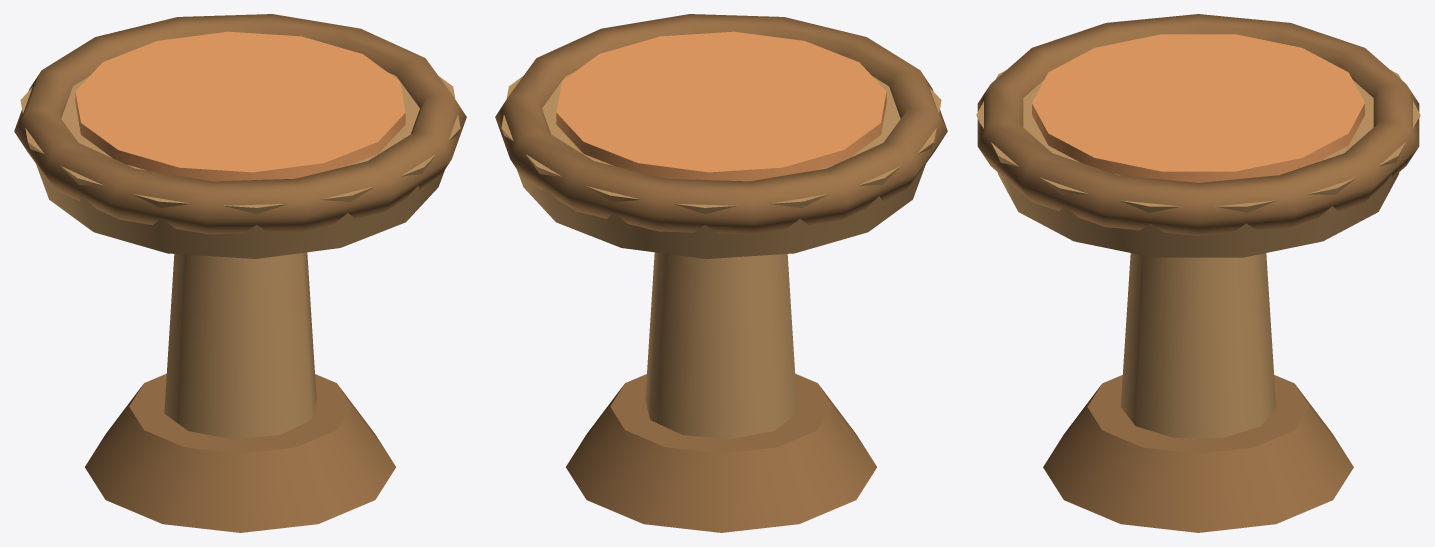
The model's file is bird_bath.glb.
3 views of the same model, side by side, from view 1: azimuth 30°, elevation 25°; view 2: azimuth 150°, elevation 25°; view 3: azimuth 270°, elevation 25° (orthographic).
Visible parts, largest first — view 1: bird_bath; view 2: bird_bath; view 3: bird_bath.
Boxes of the visible parts, <box> form: bird_bath: <box>14,14,466,532</box>; bird_bath: <box>495,14,947,532</box>; bird_bath: <box>976,14,1420,532</box>.
Size of the model in its own units: 20.4 by 18.1 by 20.
